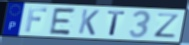3: (129, 10, 154, 39)
E: (48, 7, 78, 36)
F: (24, 6, 49, 33)
K: (77, 8, 101, 37)
T: (106, 10, 127, 37)
Z: (154, 13, 182, 39)
